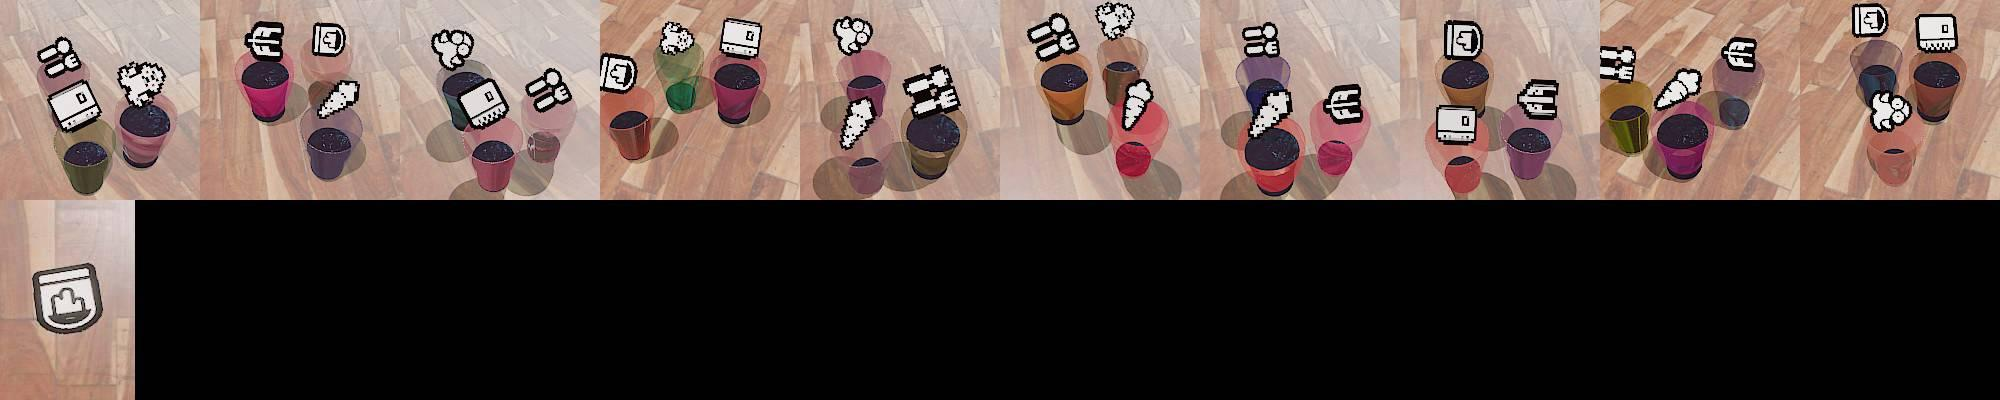icon: (31, 262, 106, 334), (903, 65, 959, 124), (46, 78, 103, 134), (1026, 10, 1080, 62), (457, 78, 510, 130), (1246, 85, 1292, 138), (116, 61, 166, 108), (526, 66, 573, 116), (1654, 66, 1705, 112), (839, 96, 875, 150), (1120, 78, 1156, 132), (38, 36, 83, 79), (1323, 83, 1366, 126), (430, 28, 474, 70), (316, 76, 361, 118), (719, 18, 763, 60), (1518, 78, 1561, 120), (1869, 89, 1911, 131), (1443, 19, 1483, 62), (1435, 104, 1477, 145), (1915, 14, 1958, 54), (833, 15, 874, 56), (1094, 1, 1135, 41), (245, 20, 286, 60), (598, 52, 636, 94), (1242, 20, 1281, 60), (1598, 45, 1636, 84), (658, 20, 695, 56), (1721, 37, 1758, 71), (1851, 4, 1888, 38), (311, 22, 346, 57)
